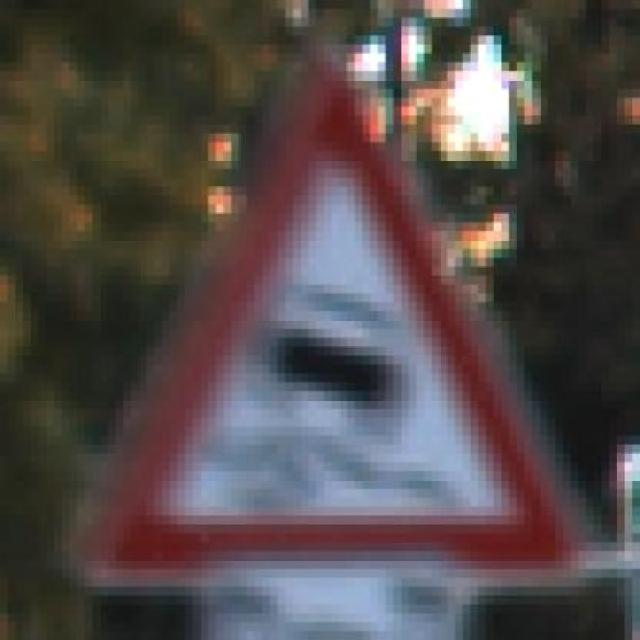Slippery Road Ahead: (61, 44, 602, 596)
